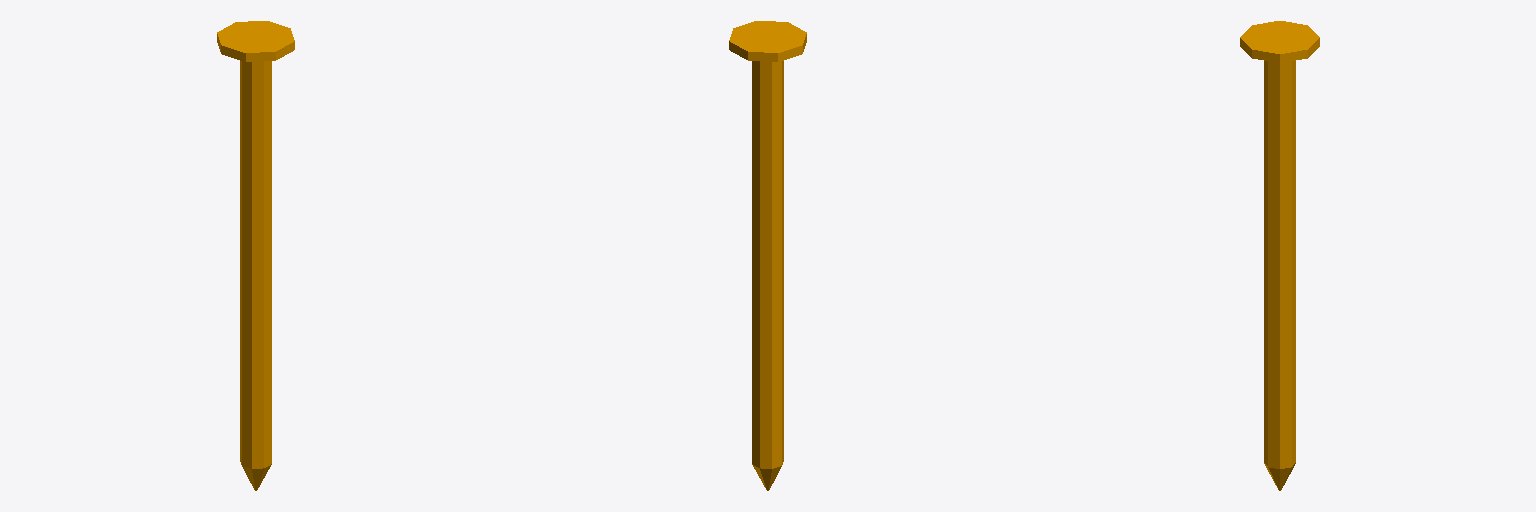
robot.urdf — nail:
<?xml version="1.0"?>
<robot name="nail">
  <link name="nail">
    <inertial>
      <mass value="1.0"/>
      <inertia ixx="0.1" ixy="0.0" ixz="0.0" iyy="0.1" iyz="0.0" izz="0.1"/>
    </inertial>

    <visual name="visual">
      <geometry>
        <mesh filename="package://mc_int_obj_description/meshes/nail/nail.stl"/>
      </geometry>
    </visual>

    <collision>
      <geometry>
        <mesh filename="package://mc_int_obj_description/meshes/nail/nail.stl"/>
      </geometry>
    </collision>
  
  </link>

</robot>

--- What the picture shows (computed from the rendered views, not written in the file) ---
3 views of the same robot in one strip: view 1: azimuth 30°, elevation 25°; view 2: azimuth 150°, elevation 25°; view 3: azimuth 270°, elevation 25° (orthographic).
Model nail with 1 links and 0 joints (none), rooted at nail, posed all joints at 0.
Visible links, largest first — view 1: nail; view 2: nail; view 3: nail.
Boxes of the visible links, box(x1,y1,x2,y2) form: nail: box(217, 21, 294, 490); nail: box(729, 21, 806, 490); nail: box(1240, 21, 1319, 490).
Size in the robot's own frame: 0.0141 by 0.0141 by 0.088 metres.
Meshes: 1 distinct files referenced, 1 mesh visuals loaded (1 binary STL).